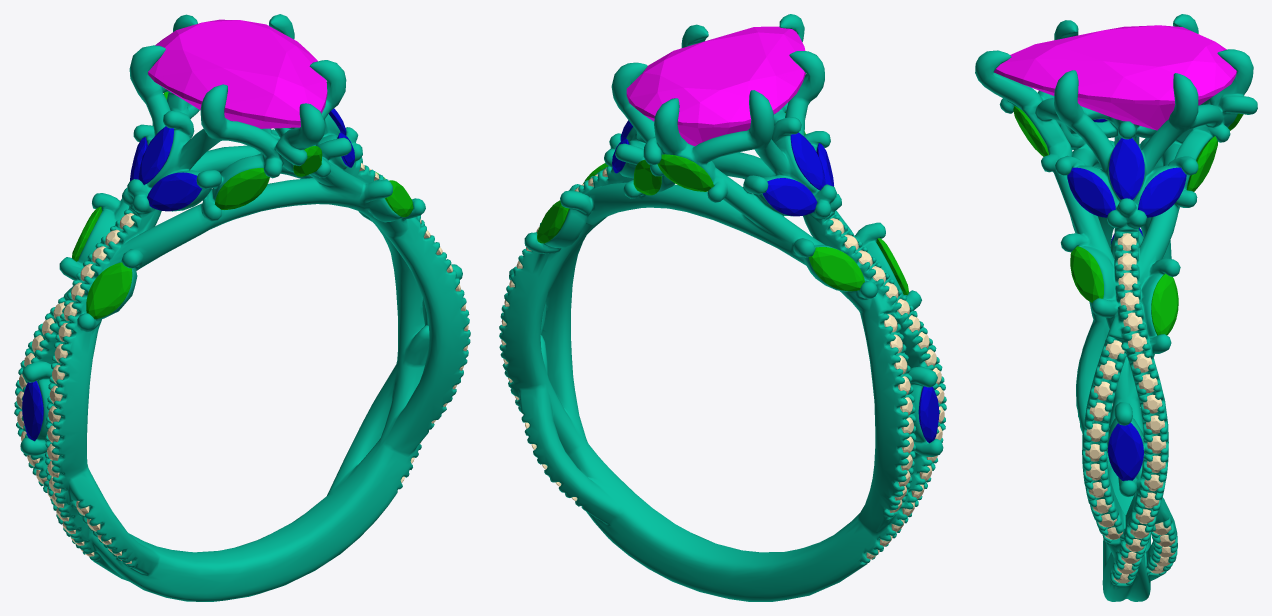
The model's file is BE1LCE6352_PE_200ct_RENDER.glb.
3 views of the same model, side by side, from view 1: azimuth 30°, elevation 25°; view 2: azimuth 150°, elevation 25°; view 3: azimuth 270°, elevation 25° (orthographic).
Parts seen in each view (by area): view 1: Metal 01, CS_Diamond_Pear, Emerald_Marquise_side.002, Diamond_Marquise_side, Emerald_Marquise_side.005, Diamond_Marquise_side.002, Diamond_Marquise_side.003, Emerald_Marquise_side.003; view 2: Metal 01, CS_Diamond_Pear, Emerald_Marquise_side.001, Diamond_Marquise_side.001, Emerald_Marquise_side.006, Diamond_Marquise_side.002, Diamond_Marquise_side.003, Emerald_Marquise_side.004, Emerald_Marquise_side.007; view 3: Metal 01, CS_Diamond_Pear, Diamond_Marquise_side.006, Diamond_Marquise_side.007, Diamond_Marquise_side.004, Diamond_Marquise_side.005, Emerald_Marquise_side.003, Emerald_Marquise_side.004, Emerald_Marquise_side.007, Emerald_Marquise_side.
Boxes of the visible parts, x1,y1,x2,y2 form: Metal 01: (14, 14, 470, 601); CS_Diamond_Pear: (148, 19, 327, 128); Emerald_Marquise_side.002: (86, 262, 132, 319); Diamond_Marquise_side: (147, 172, 202, 211); Emerald_Marquise_side.005: (215, 168, 269, 209); Diamond_Marquise_side.002: (138, 126, 173, 184); Diamond_Marquise_side.003: (22, 381, 43, 441); Emerald_Marquise_side.003: (385, 180, 413, 217); Metal 01: (499, 14, 946, 601); CS_Diamond_Pear: (626, 26, 805, 146); Emerald_Marquise_side.001: (808, 247, 864, 291); Diamond_Marquise_side.001: (762, 178, 817, 216); Emerald_Marquise_side.006: (657, 154, 713, 191); Diamond_Marquise_side.002: (790, 132, 825, 190); Diamond_Marquise_side.003: (918, 386, 939, 443); Emerald_Marquise_side.004: (537, 200, 569, 243); Emerald_Marquise_side.007: (633, 160, 661, 195); Metal 01: (975, 14, 1257, 601); CS_Diamond_Pear: (994, 25, 1236, 130); Diamond_Marquise_side.006: (1109, 138, 1144, 199); Diamond_Marquise_side.007: (1108, 423, 1143, 480); Diamond_Marquise_side.004: (1138, 167, 1186, 217); Diamond_Marquise_side.005: (1067, 167, 1115, 217); Emerald_Marquise_side.003: (1070, 246, 1103, 302); Emerald_Marquise_side.004: (1151, 273, 1178, 335); Emerald_Marquise_side.007: (1186, 136, 1217, 191); Emerald_Marquise_side: (1013, 106, 1048, 156).
Bounding box in the file's own units: 21.21 × 24.73 × 11.85.
